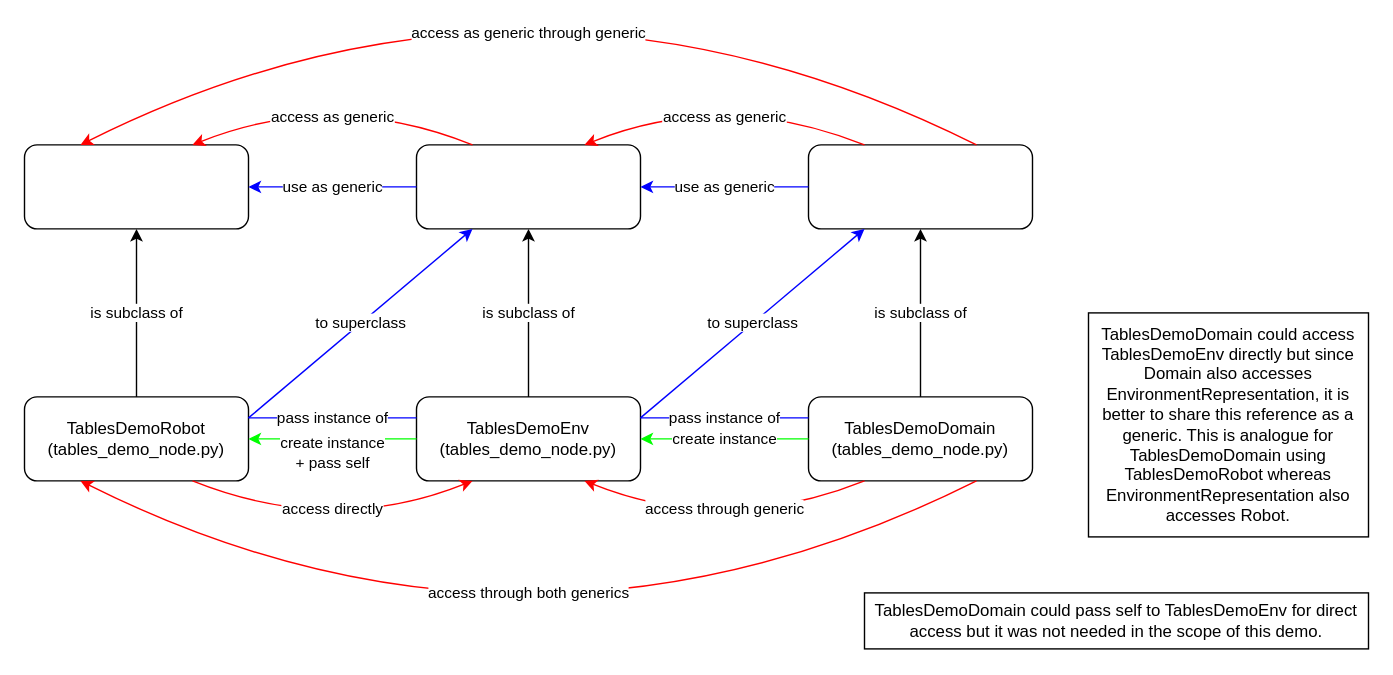
This 1393x675 diagram has some shape labels left out. Each missing label, with the centre of its shape:
"Domain (demo_domain.py)" goes at pixel 919 186.
"EnvironmentRepresentation (mobipick_components.py)" goes at pixel 527 186.
"Robot (mobipick_components.py)" goes at pixel 135 186.
